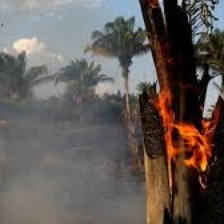incendio: (152, 83, 216, 185)
